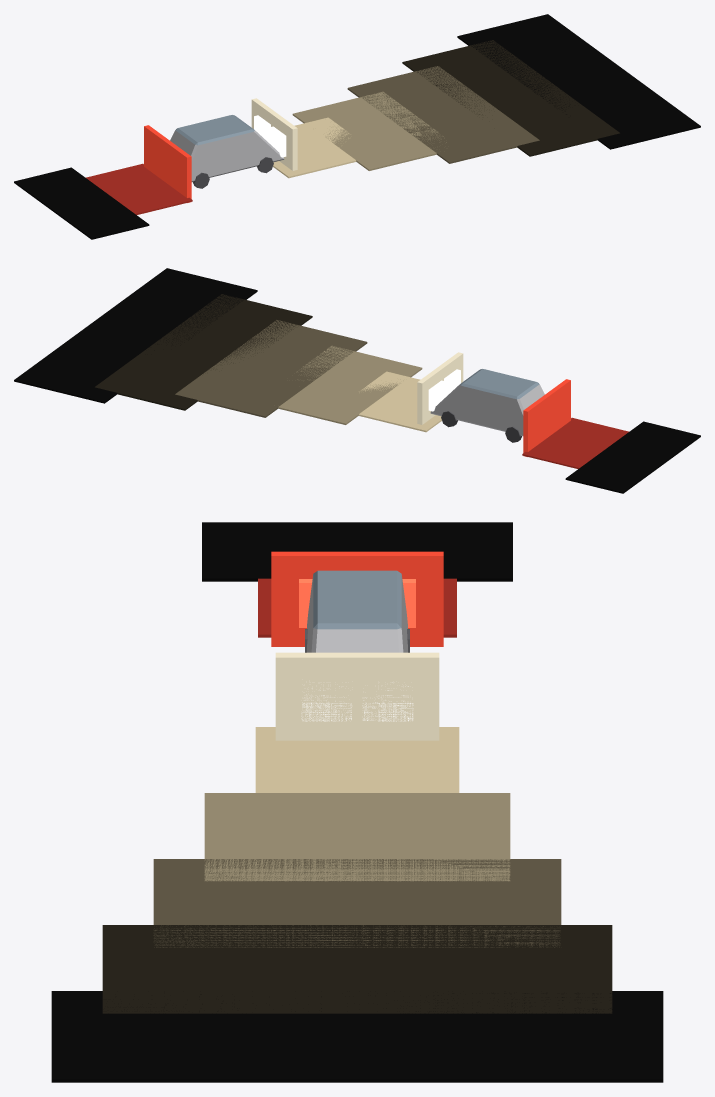
File: veh_car_saloon.glb
3 views of the same model, one above another, from view 1: azimuth 30°, elevation 25°; view 2: azimuth 150°, elevation 25°; view 3: azimuth 270°, elevation 25° (orthographic). The views are drawn at different scales.
Visible parts, largest first — view 1: veh_car_saloon; view 2: veh_car_saloon; view 3: veh_car_saloon.
Boxes of the visible parts, x1,y1,x2,y2 form: veh_car_saloon: (14, 14, 700, 239); veh_car_saloon: (14, 268, 700, 493); veh_car_saloon: (51, 522, 663, 1082).
Size of the model in its own units: 1.61 by 0.1259 by 0.744.
